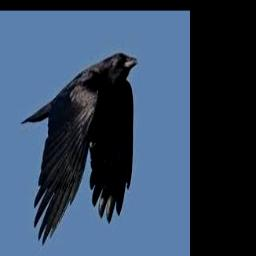Crow: (20, 50, 137, 246)
